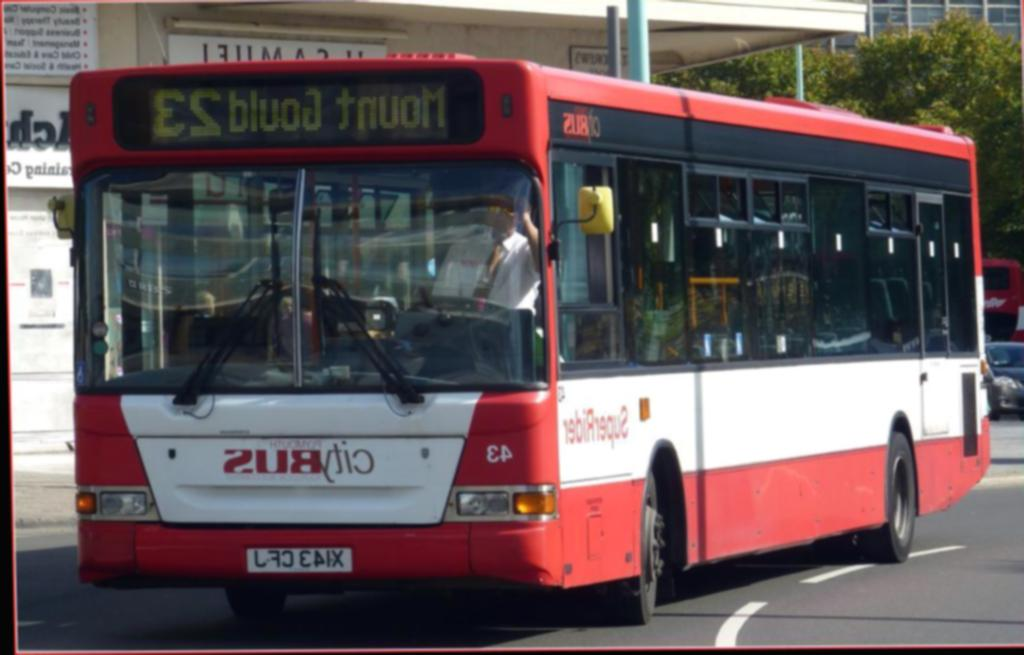License_Plate: (247, 544, 353, 572)
